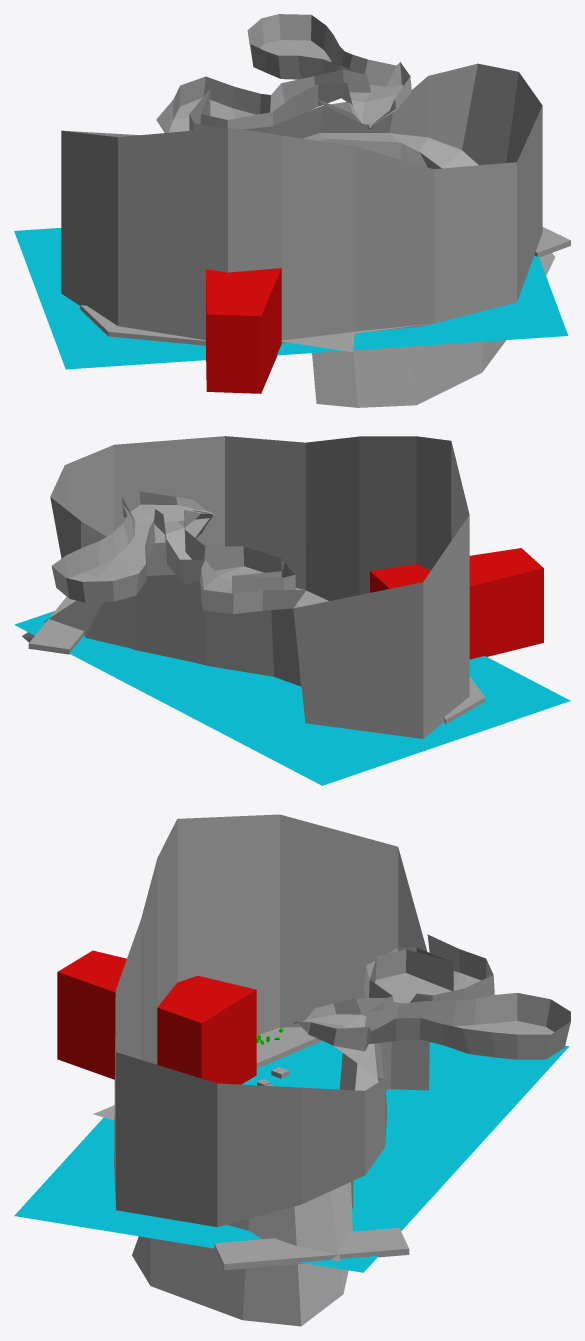
Rendered from GreyBox3.fbx.
3 renders of one model, top to bottom at view 1: azimuth 30°, elevation 25°; view 2: azimuth 150°, elevation 25°; view 3: azimuth 270°, elevation 25°, orthographic. The views are drawn at different scales.
Visible parts, largest first — view 1: pPlane1, Water, Space_Ship, Rock13, Rock18; view 2: pPlane1, Water, Space_Ship, Rock18, Rock13; view 3: pPlane1, Water, Space_Ship, Rock18, Rock13.
Part boxes in pixels (bbox=[...]): pPlane1: bbox=[61, 14, 555, 407]; Water: bbox=[14, 228, 568, 369]; Space_Ship: bbox=[206, 268, 281, 393]; Rock13: bbox=[80, 305, 205, 345]; Rock18: bbox=[534, 227, 570, 257]; pPlane1: bbox=[22, 436, 469, 738]; Water: bbox=[14, 611, 570, 785]; Space_Ship: bbox=[370, 548, 543, 659]; Rock18: bbox=[28, 596, 83, 654]; Rock13: bbox=[444, 676, 485, 724]; pPlane1: bbox=[93, 814, 570, 1326]; Water: bbox=[14, 1041, 569, 1272]; Space_Ship: bbox=[57, 950, 256, 1084]; Rock18: bbox=[214, 1228, 409, 1270]; Rock13: bbox=[256, 1027, 321, 1068].
Bounding box in the file's own units: 163 × 90.23 × 132.
